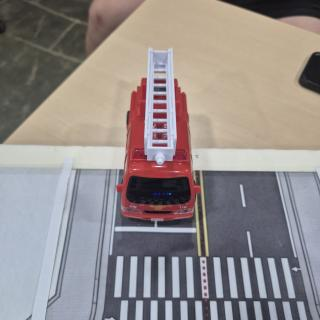Fire_truck: (116, 50, 201, 222)
